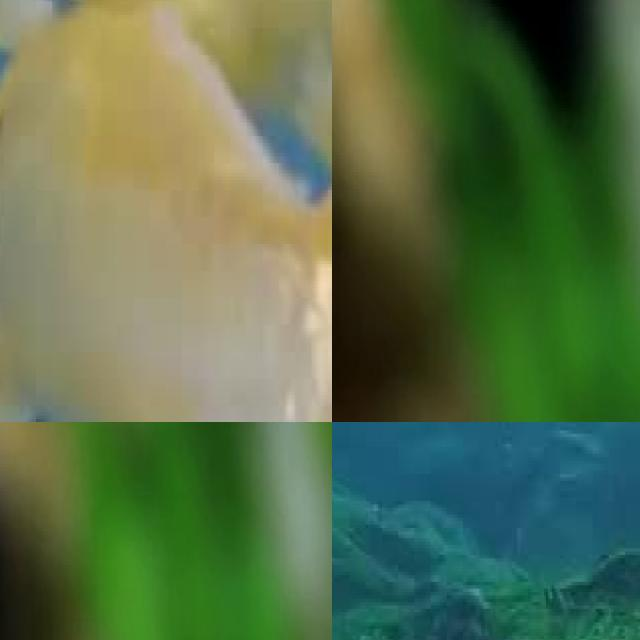fish: (0, 1, 332, 422)
